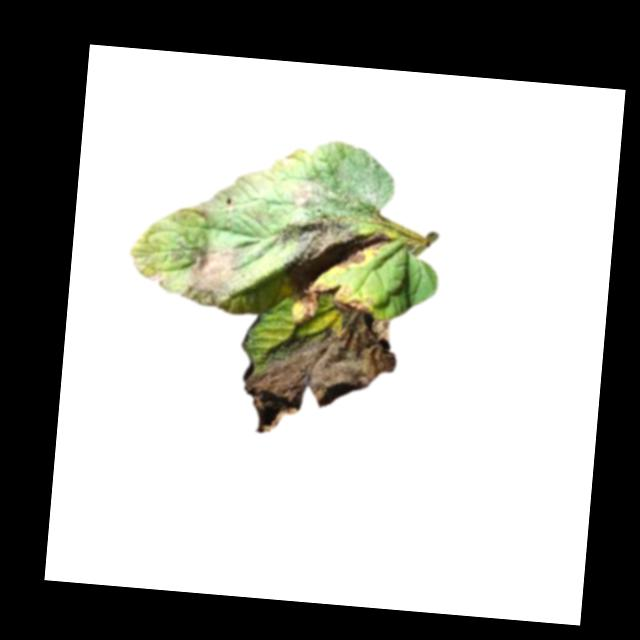Late_blight: (240, 286, 401, 444), (271, 176, 392, 298), (180, 244, 247, 308), (335, 285, 371, 312), (148, 267, 171, 292), (278, 154, 293, 170)
